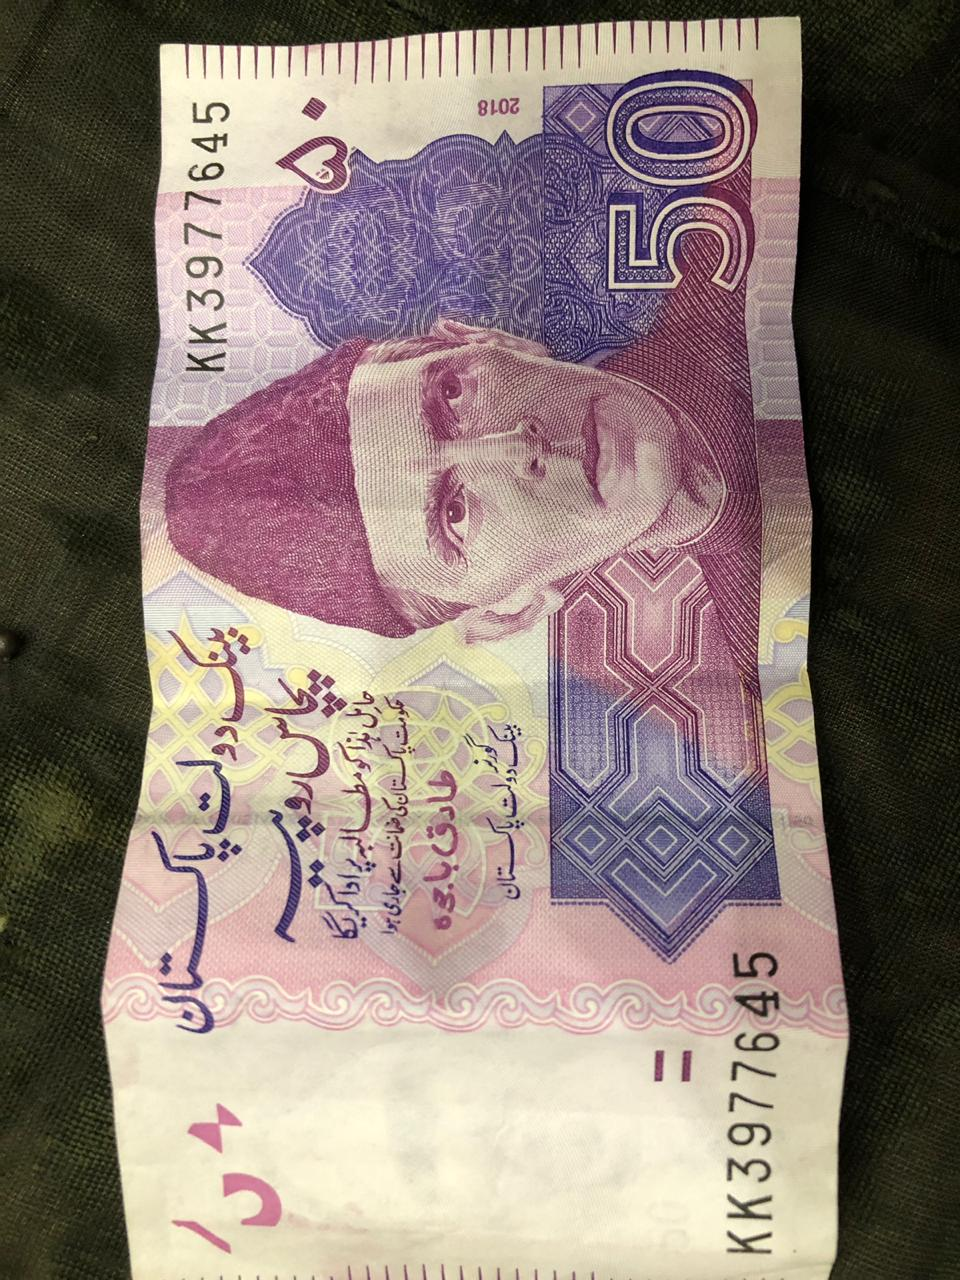50 rupee: (110, 41, 861, 1272)
